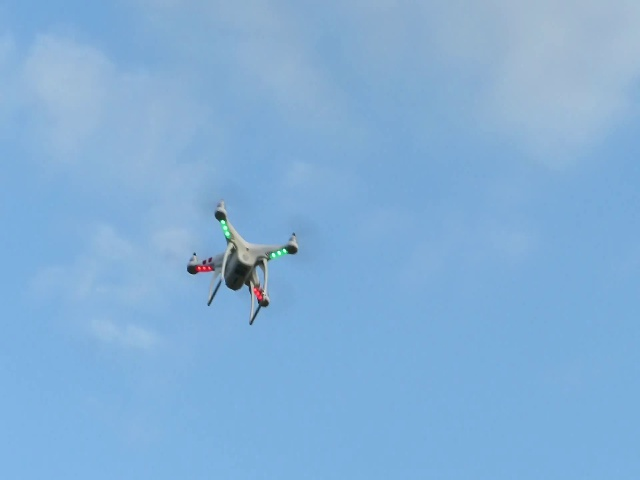drone: (174, 180, 315, 329)
